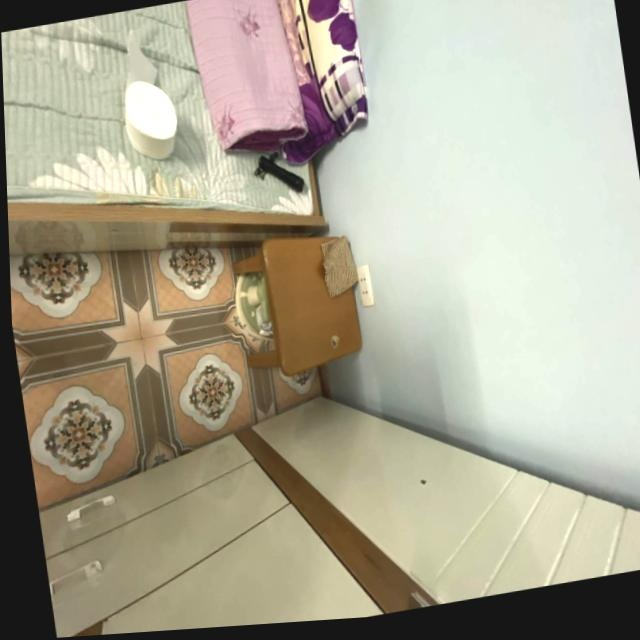outlet: (355, 263, 374, 307)
